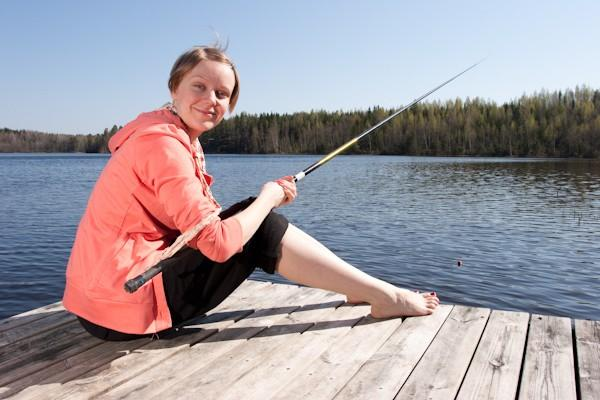person: (63, 44, 442, 344)
